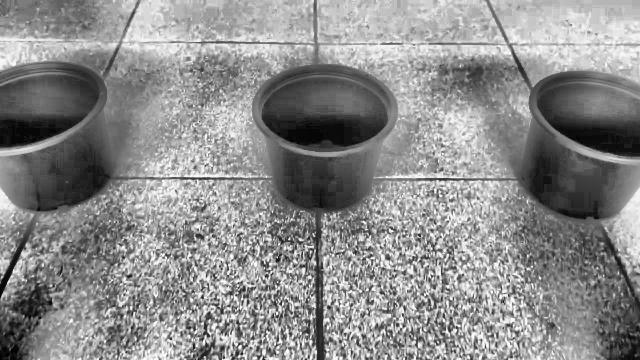pot: (252, 64, 398, 212), (519, 71, 640, 221), (0, 62, 114, 213)
